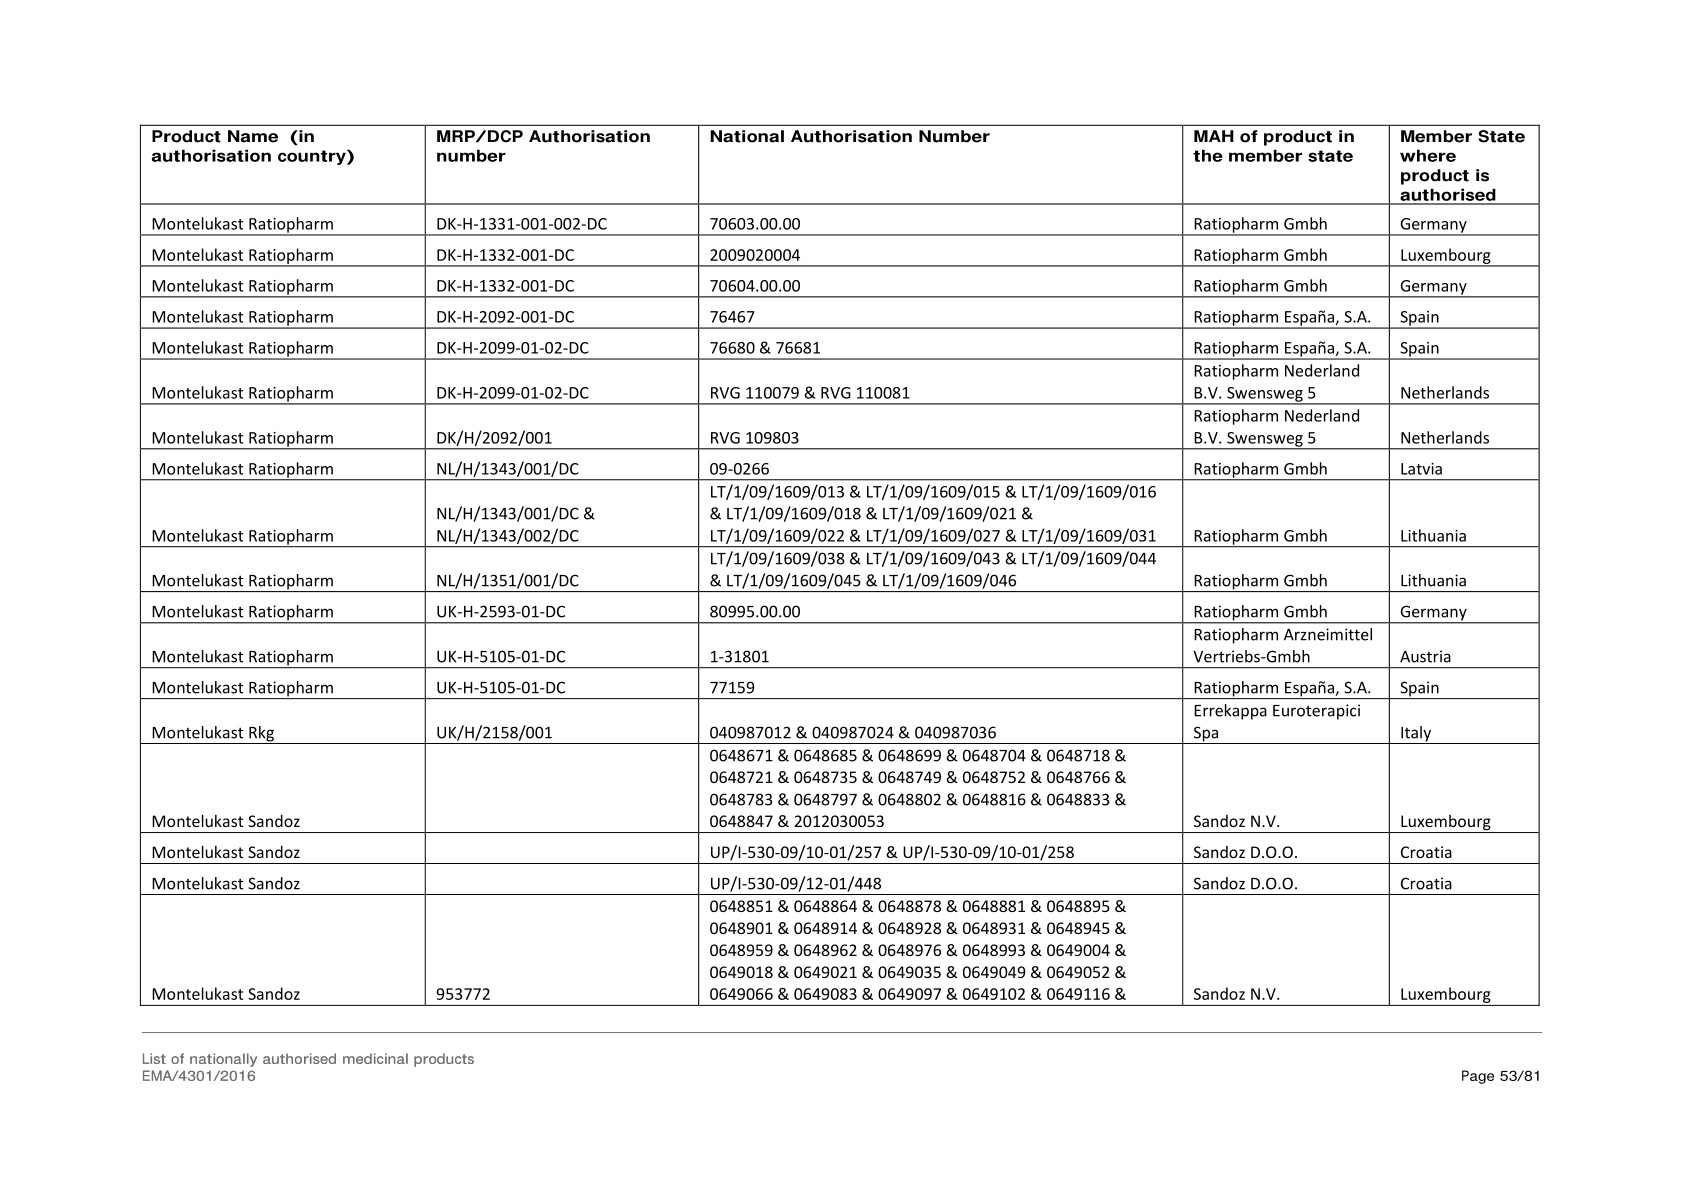full_lined: (139, 122, 1541, 1005)
